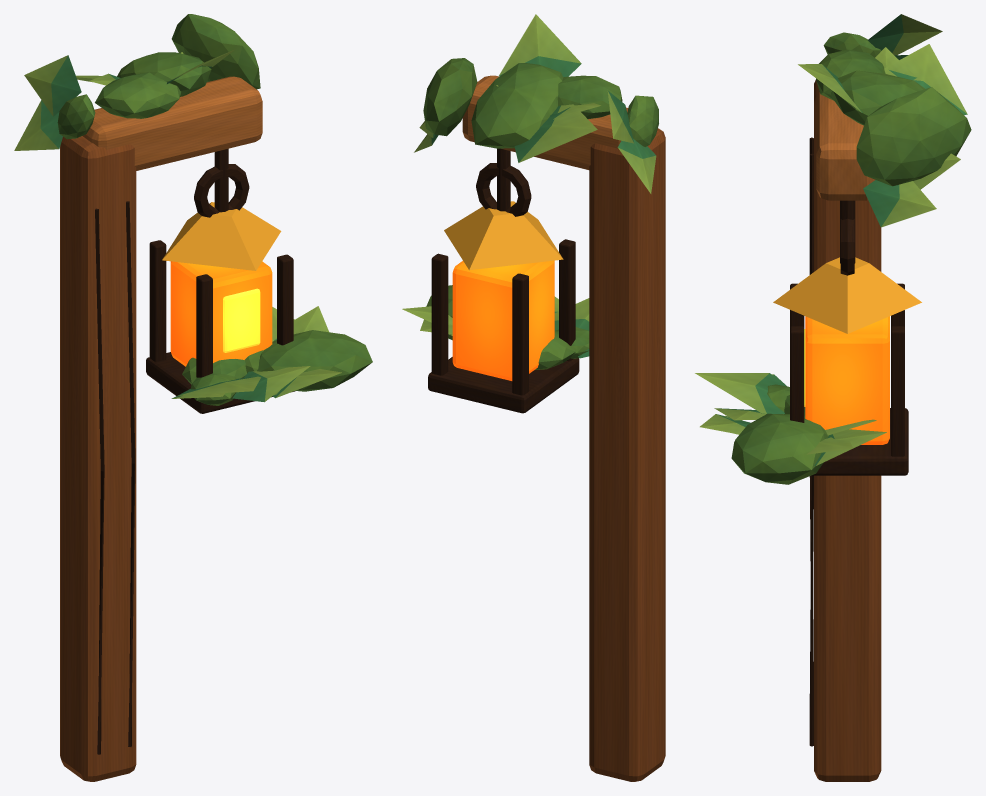
File: forest_lantern_post.glb
3 renders of one model, left to right at view 1: azimuth 30°, elevation 25°; view 2: azimuth 150°, elevation 25°; view 3: azimuth 270°, elevation 25°, orthographic. The views are drawn at different scales.
Parts seen in each view (by area): view 1: Woodland lantern upright, Woodland lantern bracket, Lantern amber glass, Lantern roof, Woodland shared moss cushion.080, Woodland shared moss cushion.081, Woodland shared moss cushion.085, Lantern post grain, Lantern post grain.001, Woodland shared moss cushion.083, Lantern hot glass inset, Lantern corner.001 (+14 smaller); view 2: Woodland lantern upright, Lantern amber glass, Woodland shared moss cushion.083, Lantern roof, Lantern bottom, Woodland shared moss cushion.081, Woodland lantern bracket, Woodland shared curved ivy leaf.200, Lantern corner.003, Lantern corner.001, Woodland shared curved ivy leaf.199, Woodland shared moss cushion.085 (+8 smaller); view 3: Woodland lantern upright, Lantern amber glass, Woodland shared moss cushion.081, Lantern roof, Woodland shared moss cushion.080, Woodland lantern bracket, Woodland shared moss cushion.083, Lantern bottom, Woodland shared curved ivy leaf.196, Woodland shared curved ivy leaf.189, Lantern corner.003, Lantern post grain.001 (+10 smaller).
Boxes of the visible parts, left/top/right/bottom form: Woodland lantern upright: left=60, top=136, right=136, bottom=781; Woodland lantern bracket: left=83, top=76, right=262, bottom=170; Lantern amber glass: left=170, top=261, right=272, bottom=366; Lantern roof: left=162, top=202, right=281, bottom=270; Woodland shared moss cushion.080: left=257, top=330, right=372, bottom=391; Woodland shared moss cushion.081: left=171, top=14, right=260, bottom=89; Woodland shared moss cushion.085: left=95, top=72, right=180, bottom=118; Lantern post grain: left=95, top=208, right=104, bottom=754; Lantern post grain.001: left=126, top=201, right=135, bottom=746; Woodland shared moss cushion.083: left=117, top=52, right=211, bottom=96; Lantern hot glass inset: left=223, top=288, right=260, bottom=352; Lantern corner.001: left=149, top=240, right=166, bottom=361; Woodland lantern upright: left=589, top=128, right=665, bottom=781; Lantern amber glass: left=452, top=260, right=554, bottom=380; Woodland shared moss cushion.083: left=471, top=63, right=563, bottom=148; Lantern roof: left=444, top=201, right=563, bottom=270; Lantern bottom: left=428, top=357, right=579, bottom=413; Woodland shared moss cushion.081: left=423, top=58, right=477, bottom=136; Woodland lantern bracket: left=462, top=75, right=628, bottom=169; Woodland shared curved ivy leaf.200: left=499, top=14, right=581, bottom=76; Lantern corner.003: left=431, top=253, right=448, bottom=375; Lantern corner.001: left=512, top=273, right=528, bottom=395; Woodland shared curved ivy leaf.199: left=514, top=104, right=597, bottom=162; Woodland shared moss cushion.085: left=557, top=75, right=622, bottom=119; Woodland lantern upright: left=814, top=80, right=881, bottom=781; Lantern amber glass: left=805, top=316, right=889, bottom=444; Woodland shared moss cushion.081: left=856, top=87, right=971, bottom=186; Lantern roof: left=773, top=257, right=921, bottom=333; Woodland shared moss cushion.080: left=731, top=413, right=828, bottom=484; Woodland lantern bracket: left=816, top=81, right=875, bottom=200; Woodland shared moss cushion.083: left=830, top=70, right=924, bottom=125; Lantern bottom: left=811, top=408, right=908, bottom=475; Woodland shared curved ivy leaf.196: left=863, top=180, right=936, bottom=227; Woodland shared curved ivy leaf.189: left=695, top=373, right=784, bottom=413; Lantern corner.003: left=891, top=326, right=904, bottom=456; Lantern post grain.001: left=809, top=154, right=813, bottom=746.
Size of the model in its own units: 0.7312 by 1.76 by 0.5751.
9 materials, 8 textured.
